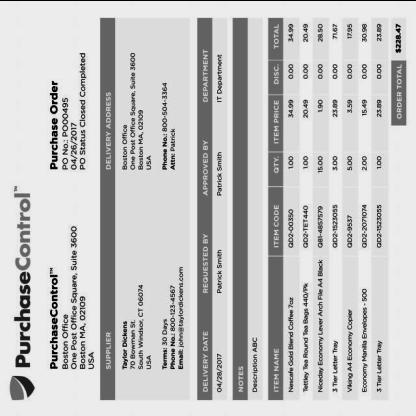Paragraph: (44, 220, 98, 374), (102, 50, 154, 172), (46, 47, 90, 174), (8, 180, 34, 372), (102, 280, 154, 374), (159, 262, 187, 372), (158, 78, 180, 172), (198, 326, 226, 398), (198, 229, 226, 297), (198, 135, 226, 200), (200, 44, 226, 108), (235, 332, 260, 395), (392, 20, 404, 122)
Table: (268, 17, 388, 401)
